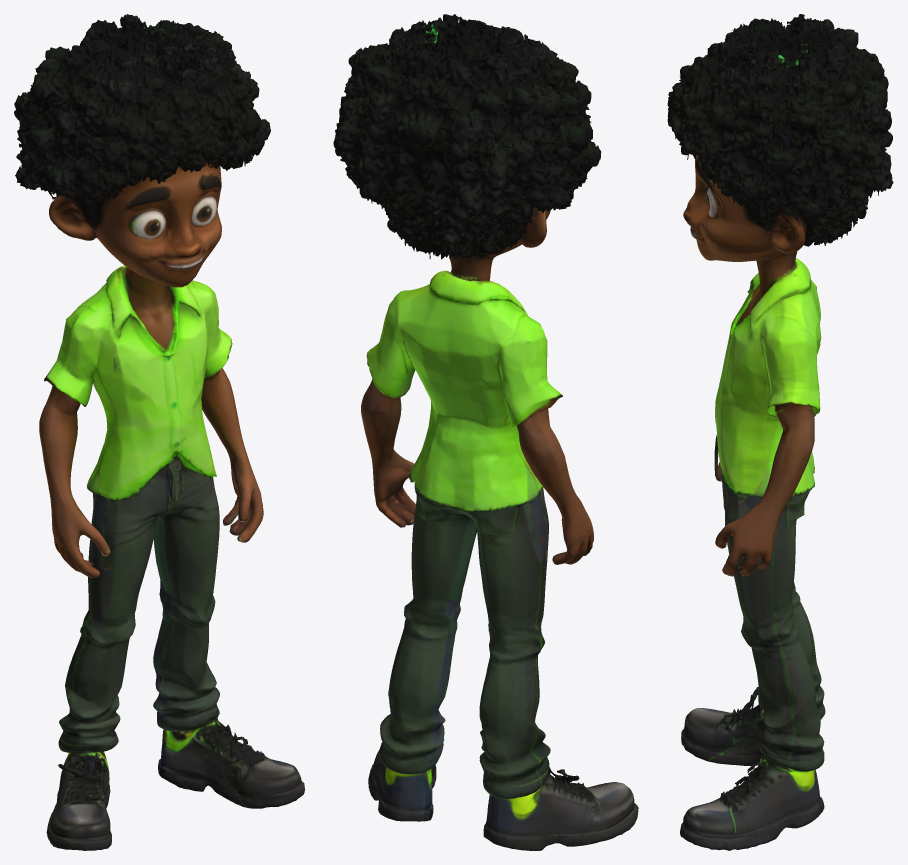
Rendered from kaspacrosscharacter.glb.
3 views of the same model, side by side, from view 1: azimuth 30°, elevation 25°; view 2: azimuth 150°, elevation 25°; view 3: azimuth 270°, elevation 25° (orthographic). The views are drawn at different scales.
Size of the model in its own units: 0.6684 by 1.99 by 0.5355.
1 material, 1 textured.
